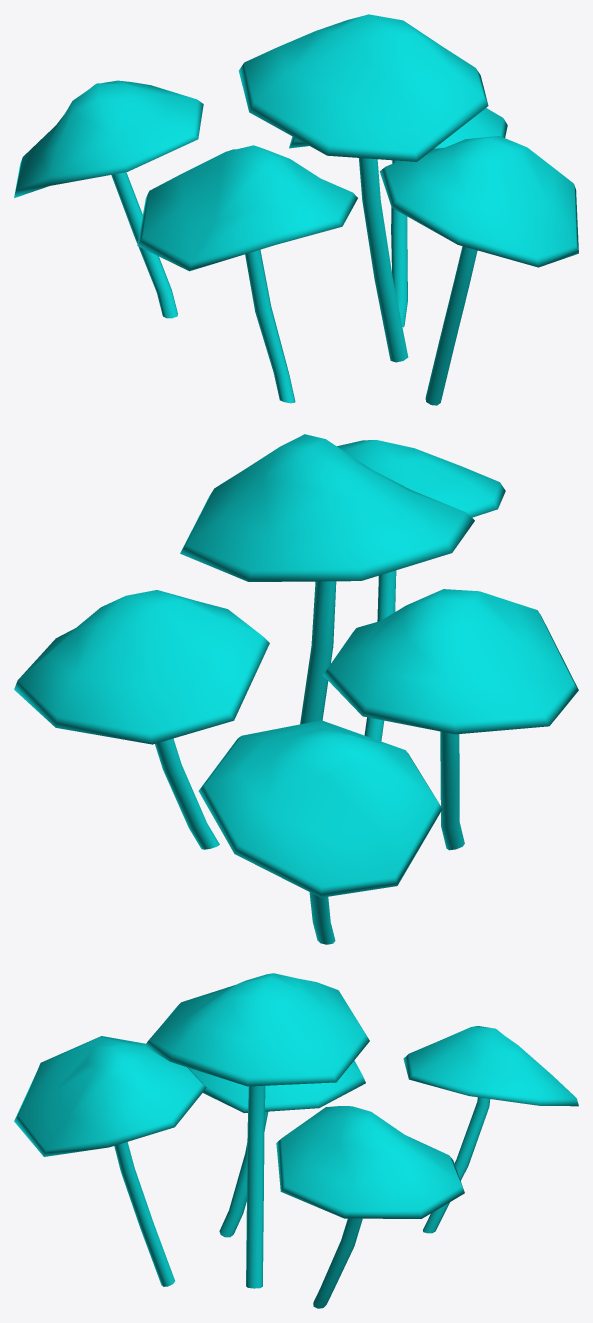
Rendered from shroom.glb.
The picture shows the model from 3 angles, top to bottom: view 1: azimuth 30°, elevation 25°; view 2: azimuth 150°, elevation 25°; view 3: azimuth 270°, elevation 25°; orthographic projection. The views are drawn at different scales.
Visible parts, largest first — view 1: shroom; view 2: shroom; view 3: shroom.
Boxes of the visible parts, x1=… form: shroom: x1=14, y1=14, x2=578, y2=405; shroom: x1=14, y1=434, x2=578, y2=944; shroom: x1=14, y1=973, x2=578, y2=1308.
Size of the model in its own units: 0.5637 by 0.4635 by 0.7791.
